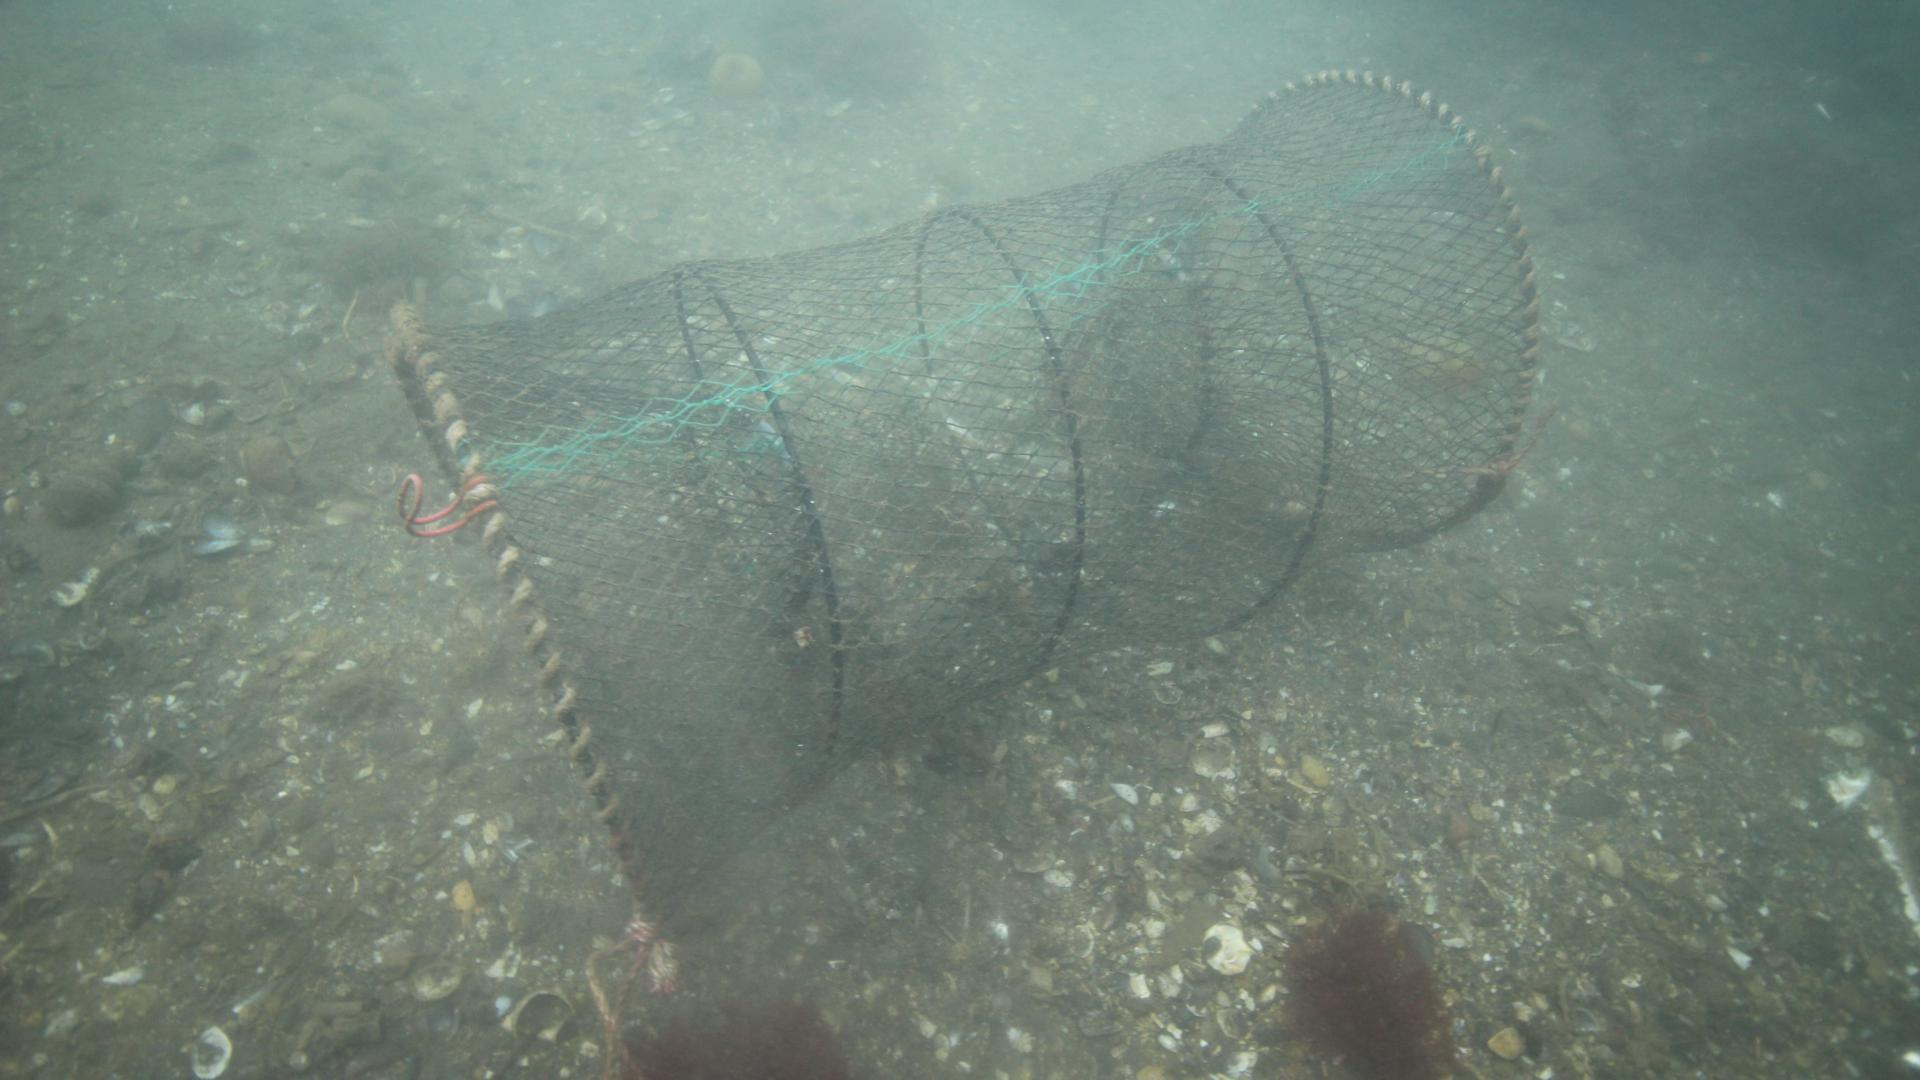spring fish trap: (389, 69, 1542, 907)
